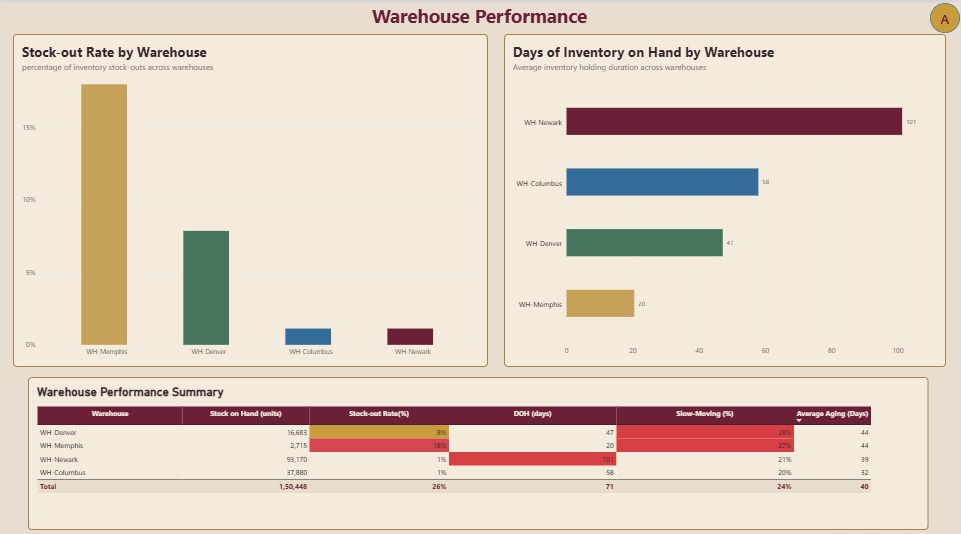

The dashboard page shown, as its layout file describes it:
{"tool":"powerbi","page":{"name":"Warehouse Performance","canvas":[1920,1080],"ordinal":1},"visuals":[{"type":"clusteredColumnChart","title":"Stock-out Rate by Warehouse","fields":{"Category":["Dim_Warehouse.WarehouseName"],"Y":["_Measures.Stock-out Rate"]},"box":[25.5,62.8,950.4,665.7],"z":0},{"type":"tableEx","title":"Warehouse Performance Summary ","fields":{"Values":["Dim_Warehouse.WarehouseName","_Measures.Stock on Hand","_Measures.Stock-out Rate","_Measures.Days of Inventory on Hand","_Measures.Slow-Moving %","_Measures.Avg Aging (Days)"]},"box":[56.9,748.1,1800.7,306.3],"z":1000},{"type":"textbox","box":[25.9,0,1866.2,62.6],"z":5000},{"type":"clusteredBarChart","title":"Days of Inventory on Hand by Warehouse","fields":{"Category":["Dim_Warehouse.WarehouseName"],"Y":["_Measures.Days of Inventory on Hand"]},"box":[1007.3,62.8,883.6,665.7],"z":6000},{"type":"shape","box":[1859.8,0,60,60],"z":8000},{"type":"textbox","title":"Designed & developed by Mirza Afzal Baig | Afzalytics","box":[1413.4,1062.3,506.6,17.7],"z":9000}]}

Visuals, with their boxes in screenshot pixels (x1, y1, x2, y2), scaled from the page's 1920x1080 canvas onto the 961x534 screenshot:
"Stock-out Rate by Warehouse" clusteredColumnChart: left=13, top=31, right=488, bottom=360
"Warehouse Performance Summary " tableEx: left=28, top=370, right=930, bottom=521
textbox: left=13, top=0, right=947, bottom=31
"Days of Inventory on Hand by Warehouse" clusteredBarChart: left=504, top=31, right=946, bottom=360
shape: left=931, top=0, right=960, bottom=30
"Designed & developed by Mirza Afzal Baig | Afzalytics" textbox: left=707, top=525, right=960, bottom=533
